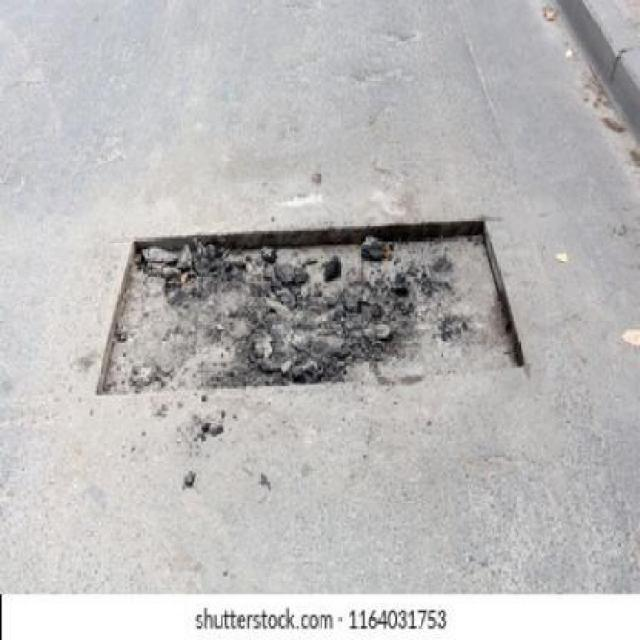Buraco: (88, 215, 532, 400)
